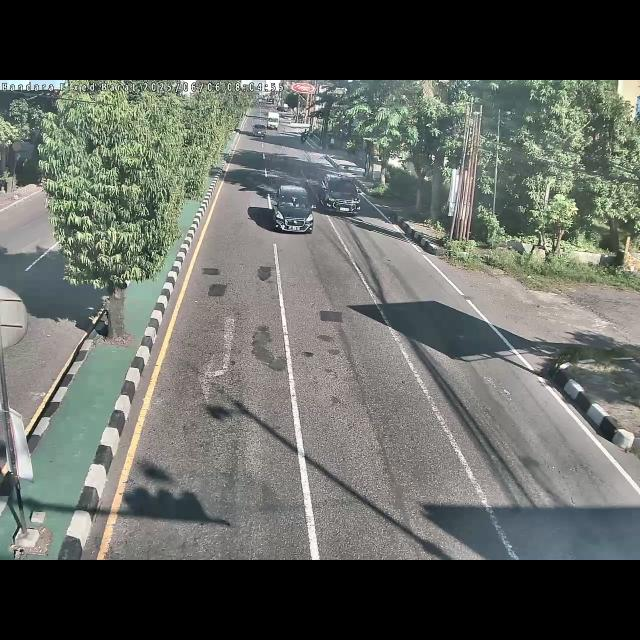Mobil: (272, 182, 318, 236), (319, 170, 365, 218)
